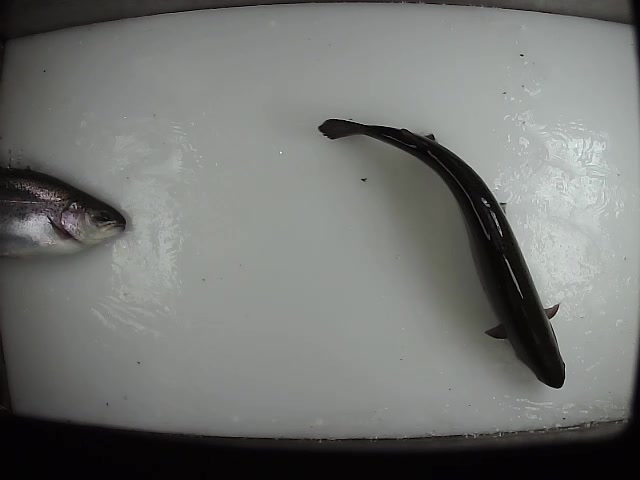Fish: (317, 119, 566, 390)
